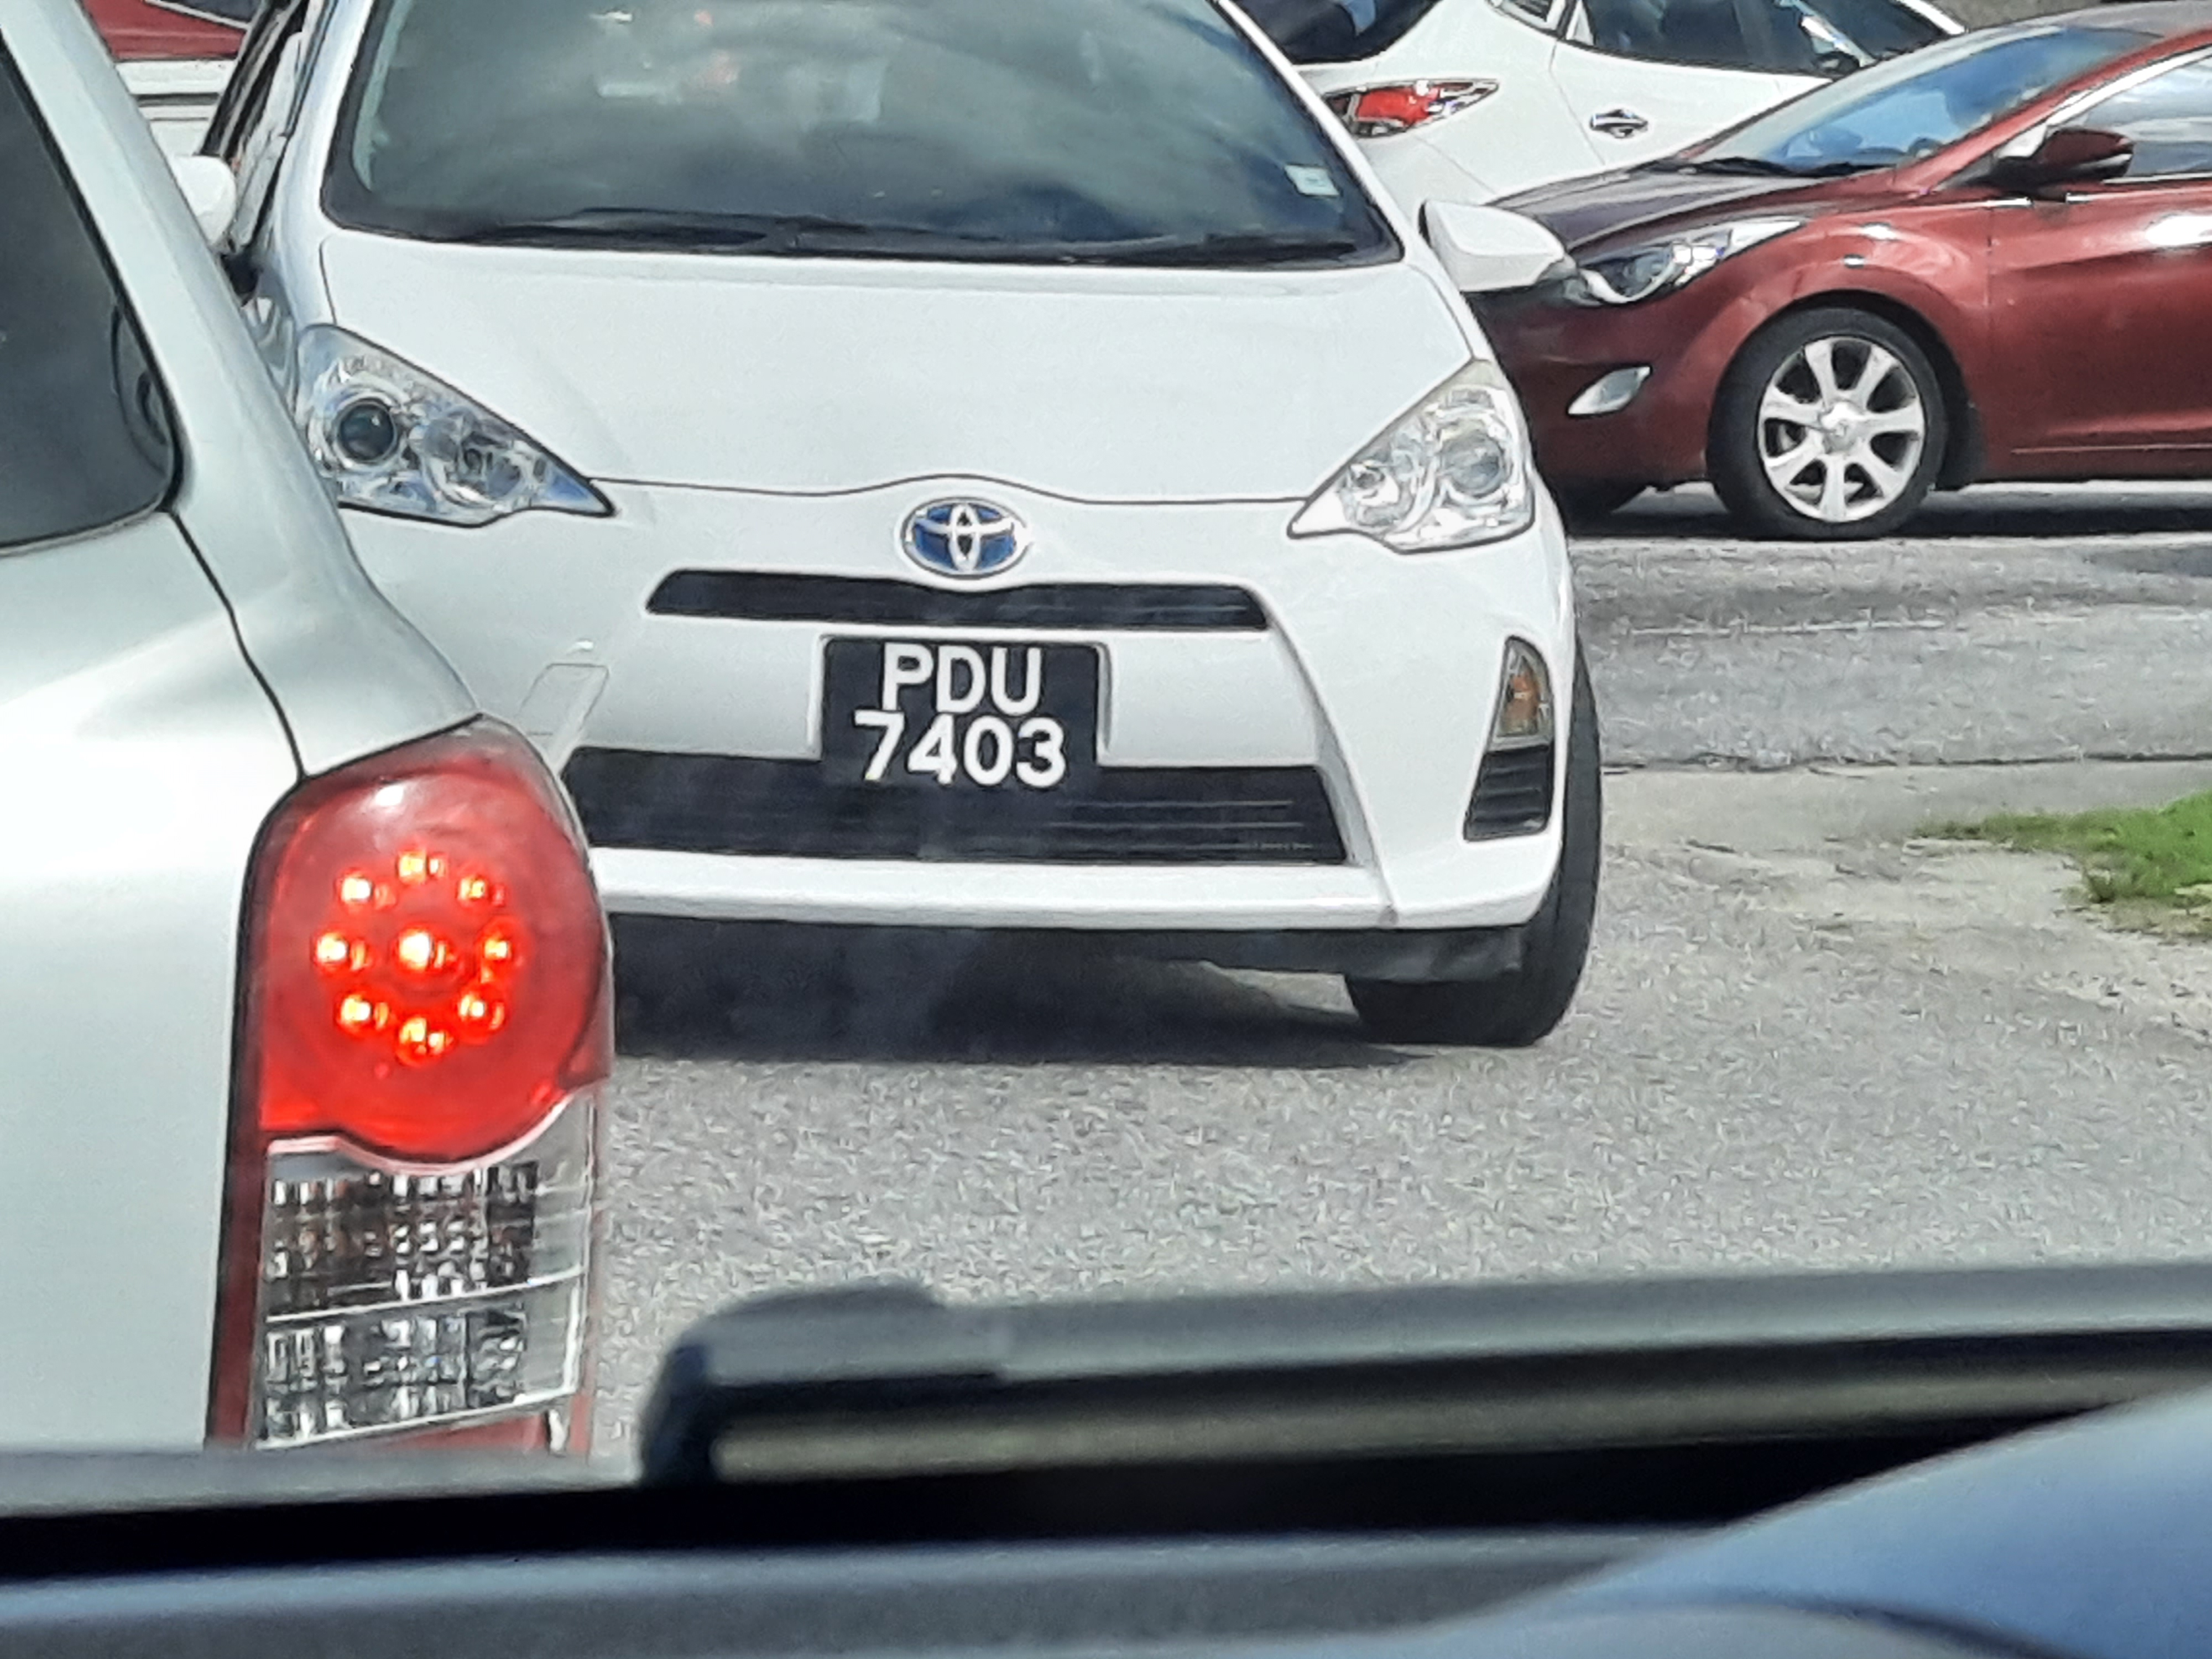License-Plate: (816, 633, 1102, 796)
